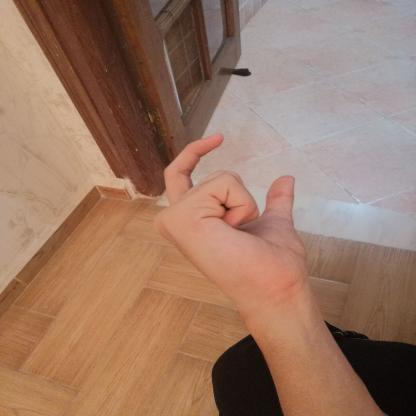NOON: (133, 125, 335, 306)
